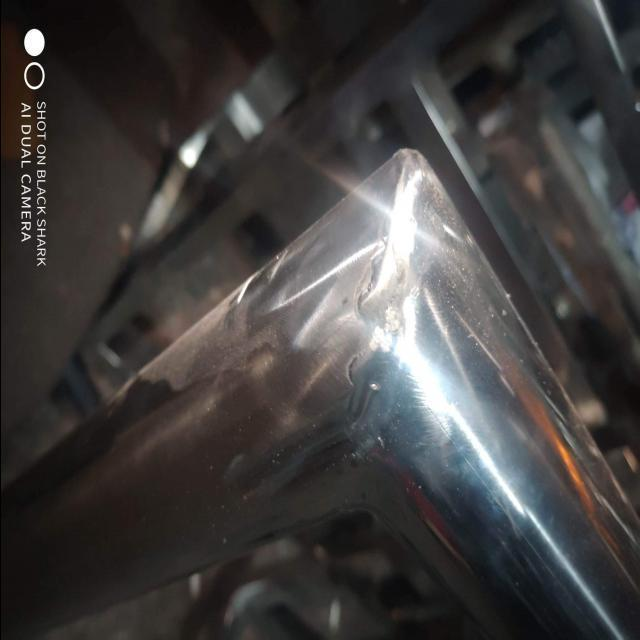Crack: (353, 190, 400, 330), (343, 347, 361, 421)
